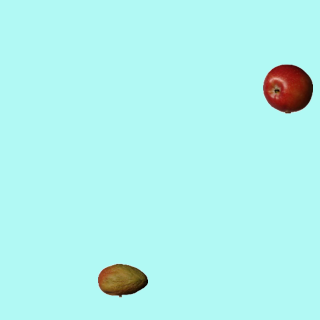Apple Braeburn: (262, 63, 312, 113)
Papaya: (97, 255, 147, 305)
